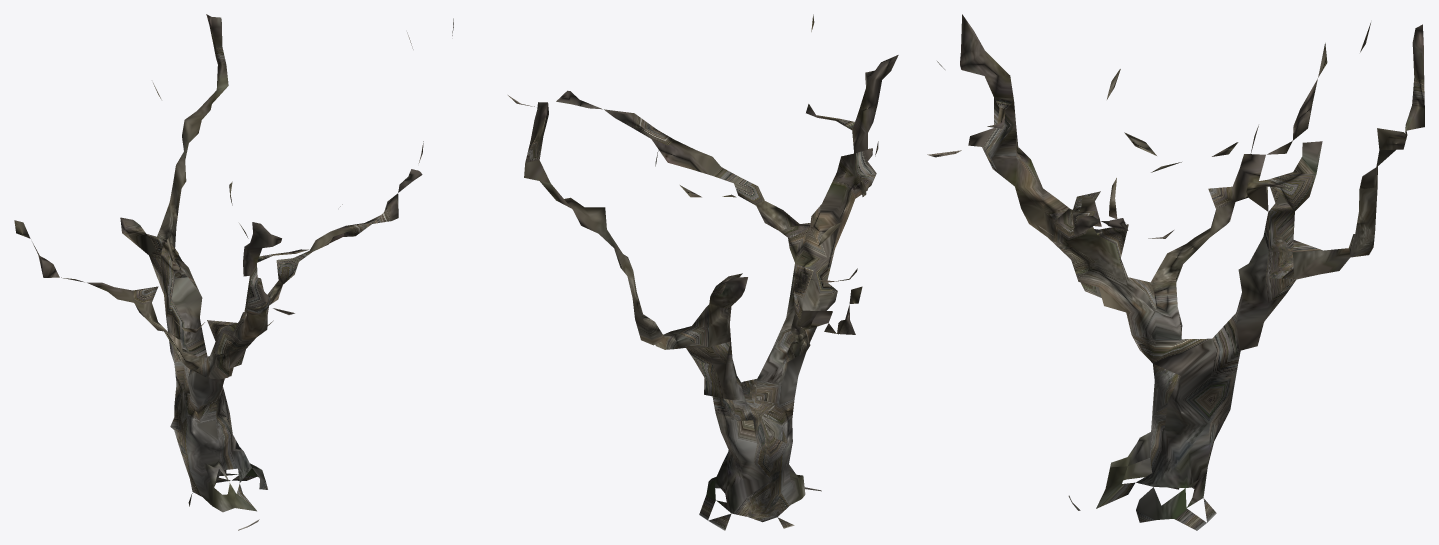
The model's file is island_tree_01_L1_madera.glb.
3 renders of one model, left to right at view 1: azimuth 30°, elevation 25°; view 2: azimuth 150°, elevation 25°; view 3: azimuth 270°, elevation 25°, orthographic. The views are drawn at different scales.
Visible parts, largest first — view 1: island_tree_01_LOD0; view 2: island_tree_01_LOD0; view 3: island_tree_01_LOD0.
Boxes of the visible parts, x1,y1,x2,y2 form: island_tree_01_LOD0: (14, 14, 423, 530); island_tree_01_LOD0: (452, 14, 898, 530); island_tree_01_LOD0: (927, 14, 1424, 530).
Bounding box in the file's own units: 3.48 × 3.54 × 2.97.
Materials: 2 (2 with a texture image).
